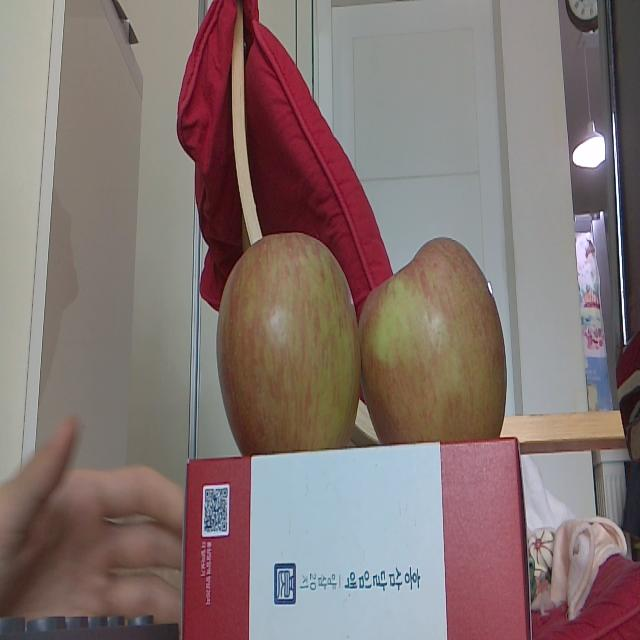apple: (217, 232, 361, 448), (359, 236, 508, 442)
